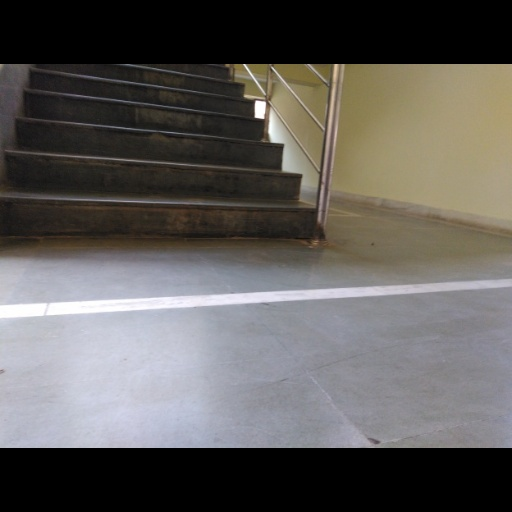Stairs: (0, 66, 315, 239)
